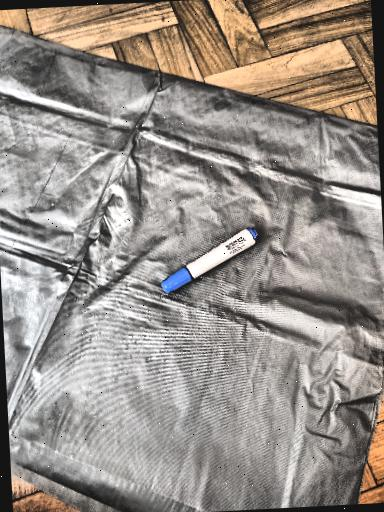marcador azul: (162, 227, 258, 292)
